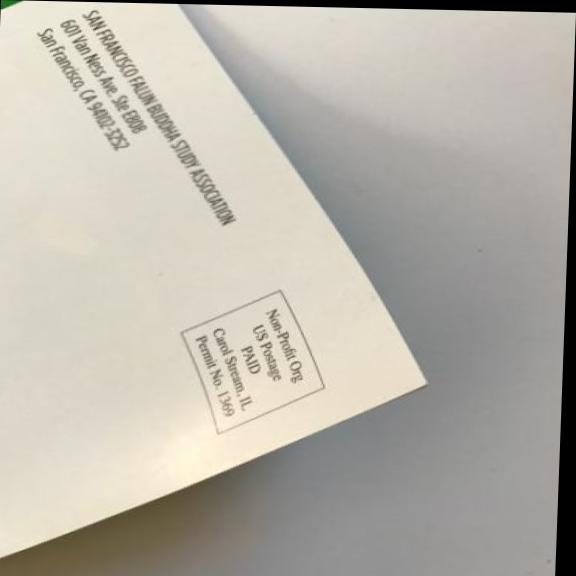Kertas: (0, 0, 448, 573)
